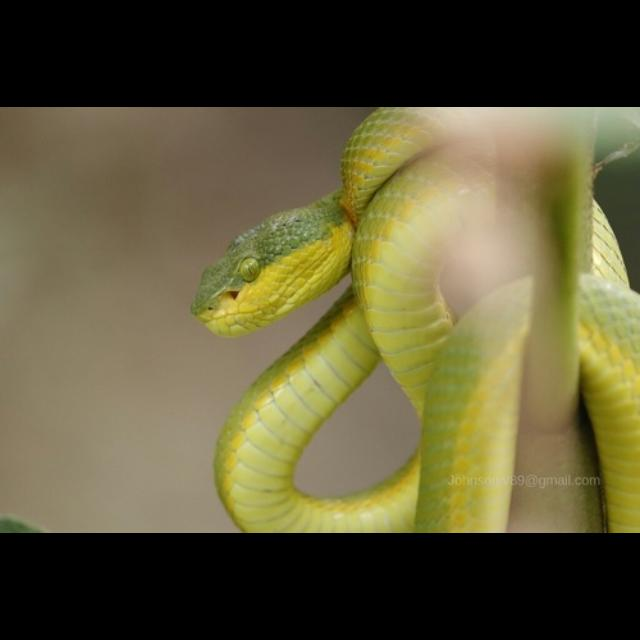snake: (183, 115, 640, 533)
